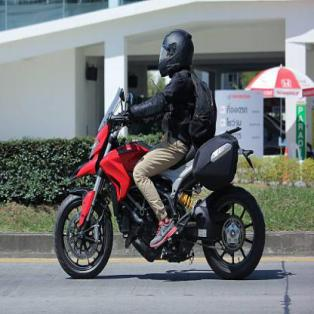Motocicleta: (51, 114, 270, 285)
